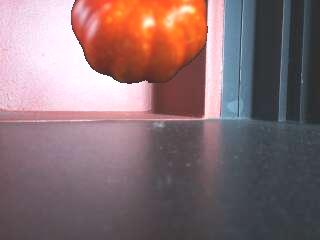Pumpkin: (67, 0, 209, 85)
